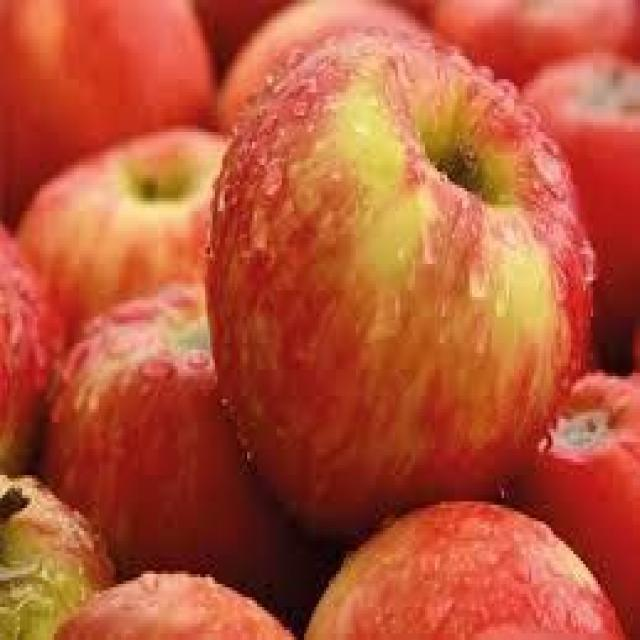Fresh Apple: (212, 31, 590, 526), (37, 291, 299, 594), (305, 486, 627, 640), (0, 123, 226, 324)
